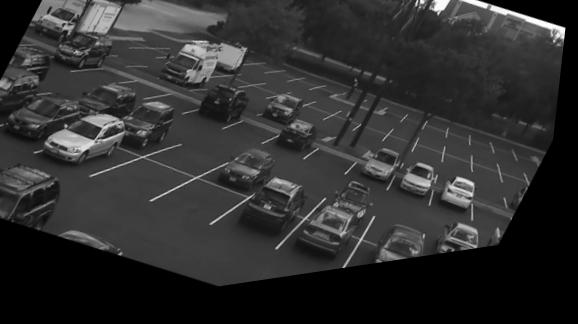empty: (98, 165, 194, 210), (152, 132, 234, 179), (169, 186, 250, 227), (305, 154, 363, 189), (384, 213, 434, 243), (291, 179, 332, 209), (120, 80, 171, 104), (229, 128, 279, 151), (477, 219, 521, 245), (76, 69, 131, 86), (158, 93, 200, 115), (414, 156, 448, 179), (480, 197, 513, 219), (355, 137, 395, 155), (323, 125, 363, 143), (339, 117, 375, 136), (444, 167, 476, 188), (40, 78, 79, 95), (386, 148, 420, 167), (478, 177, 506, 199), (241, 93, 278, 109), (392, 137, 423, 156), (402, 125, 433, 143), (421, 146, 450, 165), (448, 156, 476, 175), (315, 107, 348, 123), (135, 52, 179, 64), (517, 165, 544, 184), (506, 187, 534, 205), (305, 114, 336, 130), (384, 118, 413, 135), (367, 129, 399, 144), (263, 86, 294, 101), (291, 98, 324, 112), (428, 132, 452, 151), (448, 179, 477, 194), (316, 94, 351, 106), (246, 103, 269, 121), (503, 177, 530, 192), (215, 82, 251, 93), (451, 141, 474, 158), (238, 78, 270, 90), (292, 86, 323, 97), (477, 168, 501, 182), (316, 132, 335, 148), (476, 151, 494, 167), (272, 79, 300, 89), (499, 158, 515, 175), (250, 71, 279, 80)
occupied: (43, 114, 128, 174), (237, 186, 313, 244), (0, 164, 62, 233), (298, 211, 369, 270), (0, 93, 81, 144), (160, 47, 222, 93), (217, 156, 278, 201), (53, 31, 114, 75), (377, 236, 438, 277), (126, 108, 178, 154), (197, 91, 253, 132), (0, 68, 41, 120), (80, 88, 139, 119), (278, 128, 322, 163), (443, 190, 482, 227), (266, 103, 307, 135), (343, 195, 378, 232), (365, 162, 404, 194), (8, 48, 51, 77), (404, 177, 439, 211), (445, 237, 485, 265)
